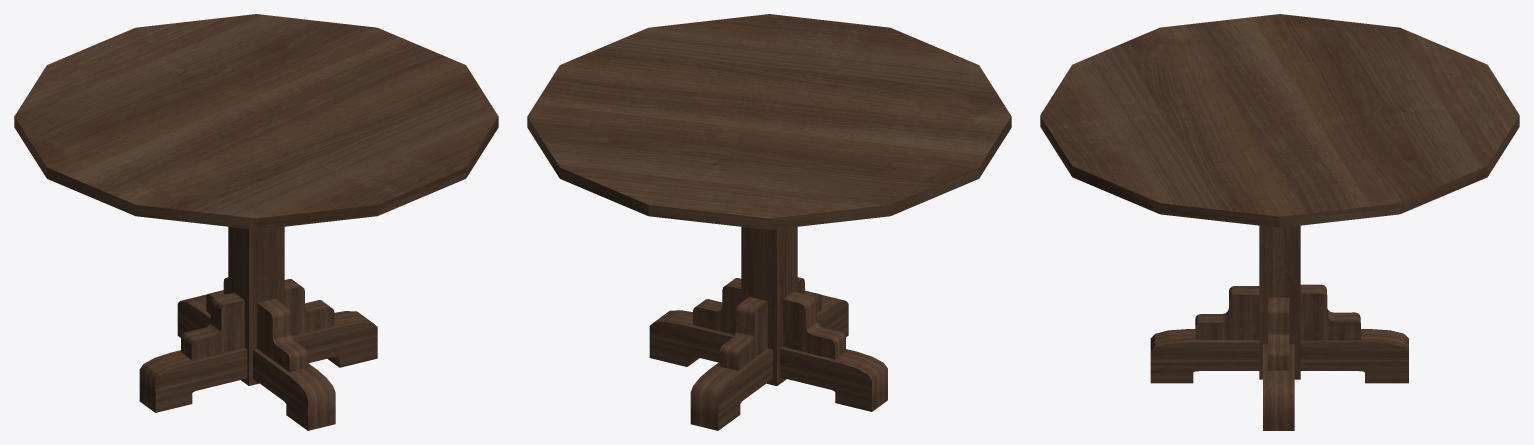
File: SmallTable.fbx
The picture shows the model from 3 angles, left to right: view 1: azimuth 30°, elevation 25°; view 2: azimuth 150°, elevation 25°; view 3: azimuth 270°, elevation 25°; orthographic projection.
Visible parts, largest first — view 1: Circle, Cube, Cube.007, Cube.001, Cube.005, Cube.008, Cube.009, Cube.006, Cube.003; view 2: Circle, Cube, Cube.007, Cube.003, Cube.005, Cube.008, Cube.004, Cube.006, Cube.001; view 3: Circle, Cube.001, Cube.003, Cube, Cube.009, Cube.004, Cube.005, Cube.006.
Boxes of the visible parts, x1,y1,x2,y2 form: Circle: (14,14,498,229); Cube: (228,226,284,385); Cube.007: (139,347,247,412); Cube.001: (253,349,335,430); Cube.005: (292,311,377,367); Cube.008: (181,292,244,359); Cube.009: (257,298,308,372); Cube.006: (284,279,334,335); Cube.003: (177,294,210,337); Circle: (527,14,1011,229); Cube: (741,227,797,385); Cube.007: (780,346,887,411); Cube.003: (690,348,772,430); Cube.005: (649,310,734,366); Cube.008: (783,291,845,359); Cube.004: (719,296,767,370); Cube.006: (693,278,741,334); Cube.001: (816,294,848,337); Circle: (1040,14,1519,227); Cube.001: (1150,329,1259,383); Cube.003: (1300,329,1408,383); Cube: (1259,225,1300,379); Cube.009: (1195,286,1259,339); Cube.004: (1300,284,1360,340); Cube.005: (1263,344,1294,430); Cube.006: (1268,297,1289,370).
Size of the model in its own units: 1359 by 817 by 1359.
1 material, 1 textured.
